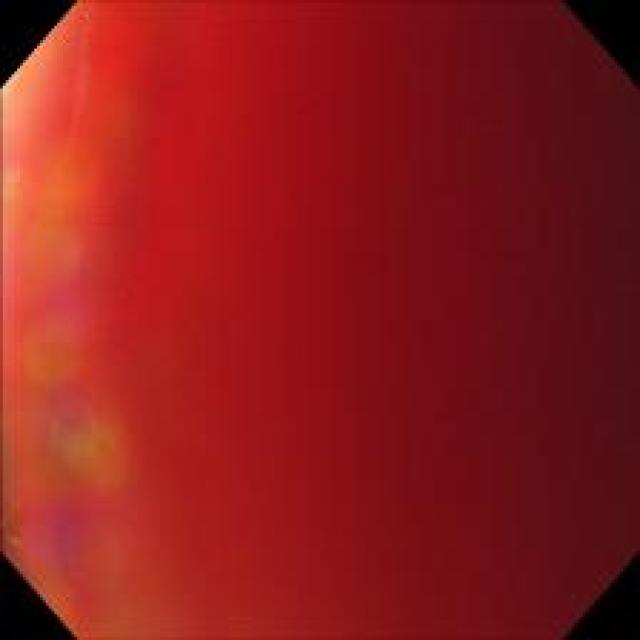color misalignment: (5, 9, 620, 621)
